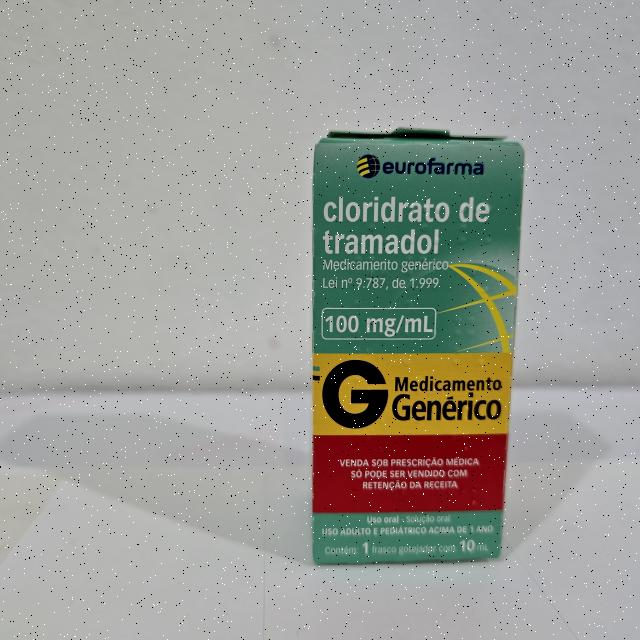tramadol: (306, 123, 527, 574)
